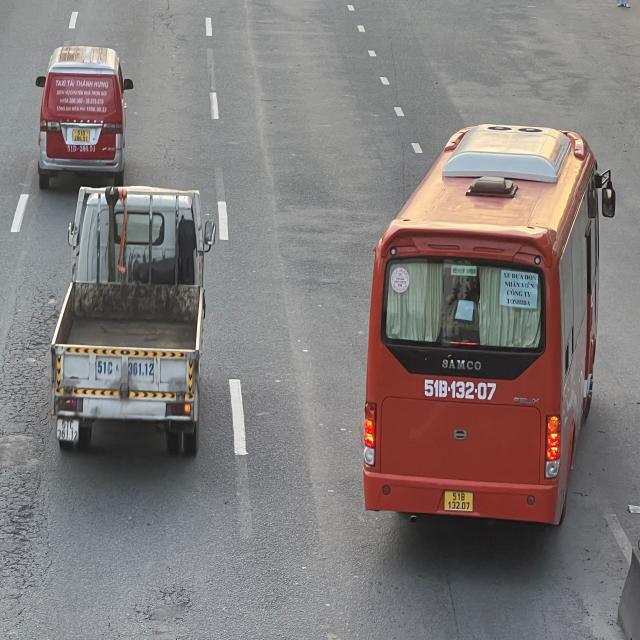coach: (362, 124, 610, 524)
truck: (51, 186, 212, 463)
van: (35, 43, 132, 188)
